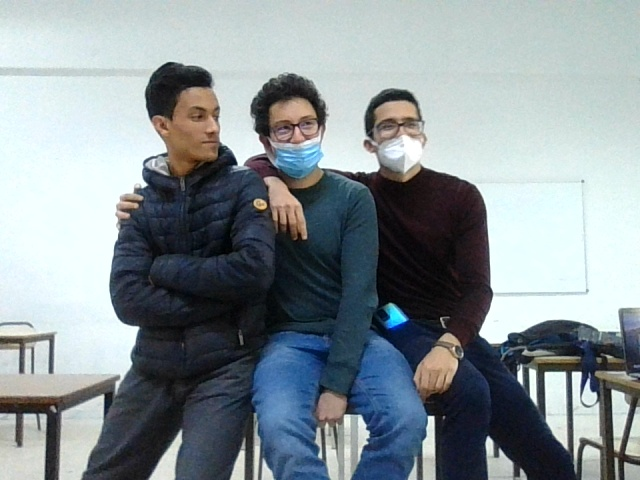mask_weared_incorrect: (251, 76, 338, 183), (355, 83, 431, 182)
without_mask: (129, 52, 248, 185)
